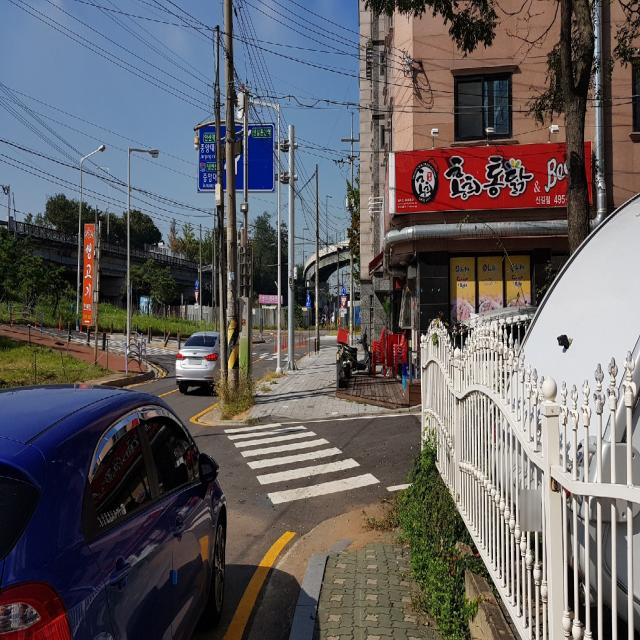횡단보도: (223, 421, 381, 506)
